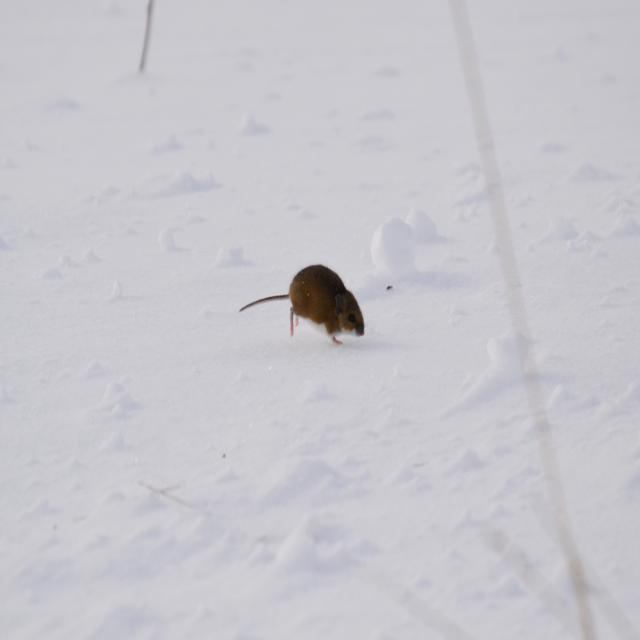rat: (240, 254, 361, 351)
